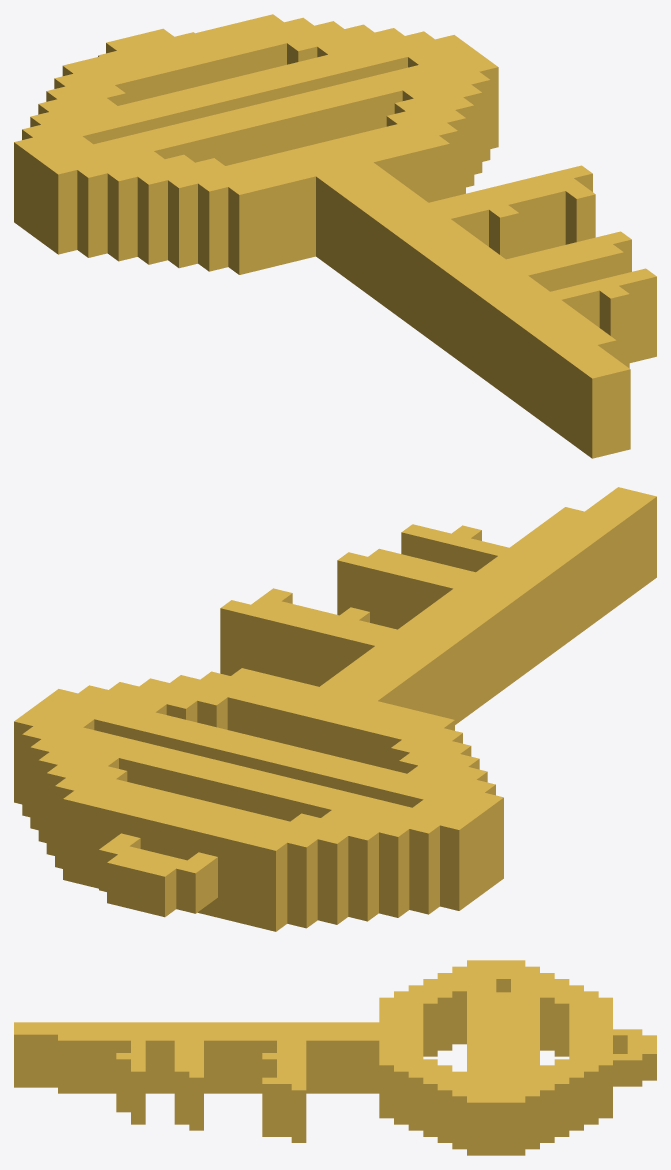
3 renders of one model, top to bottom at view 1: azimuth 30°, elevation 25°; view 2: azimuth 150°, elevation 25°; view 3: azimuth 270°, elevation 25°, orthographic. The views are drawn at different scales.
Parts seen in each view (by area): view 1: 钥匙; view 2: 钥匙; view 3: 钥匙.
Part boxes in pixels (<box>): 钥匙: <box>14,14,656,458</box>; 钥匙: <box>14,487,656,931</box>; 钥匙: <box>14,960,656,1155</box>.
Size of the model in its own units: 23 by 4 by 44.
